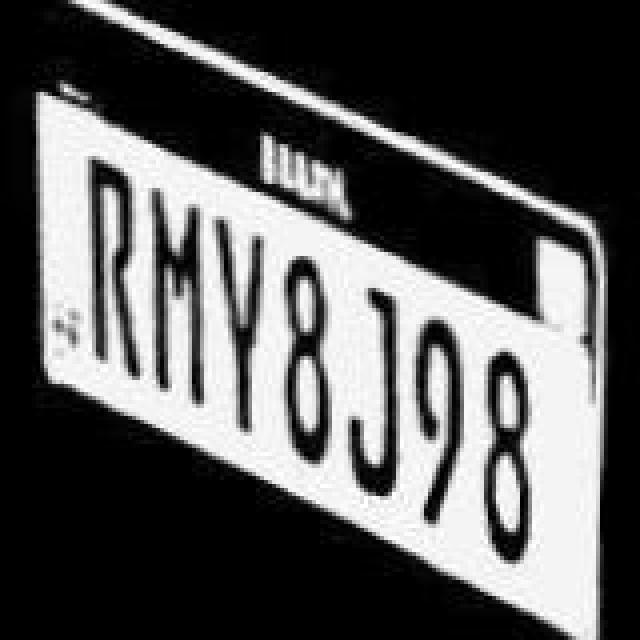8: (478, 342, 542, 566), (274, 252, 334, 468)
9: (404, 312, 472, 528)
J: (334, 286, 402, 502)
M: (140, 182, 208, 414)
R: (76, 152, 148, 384)
Y: (202, 212, 266, 436)
